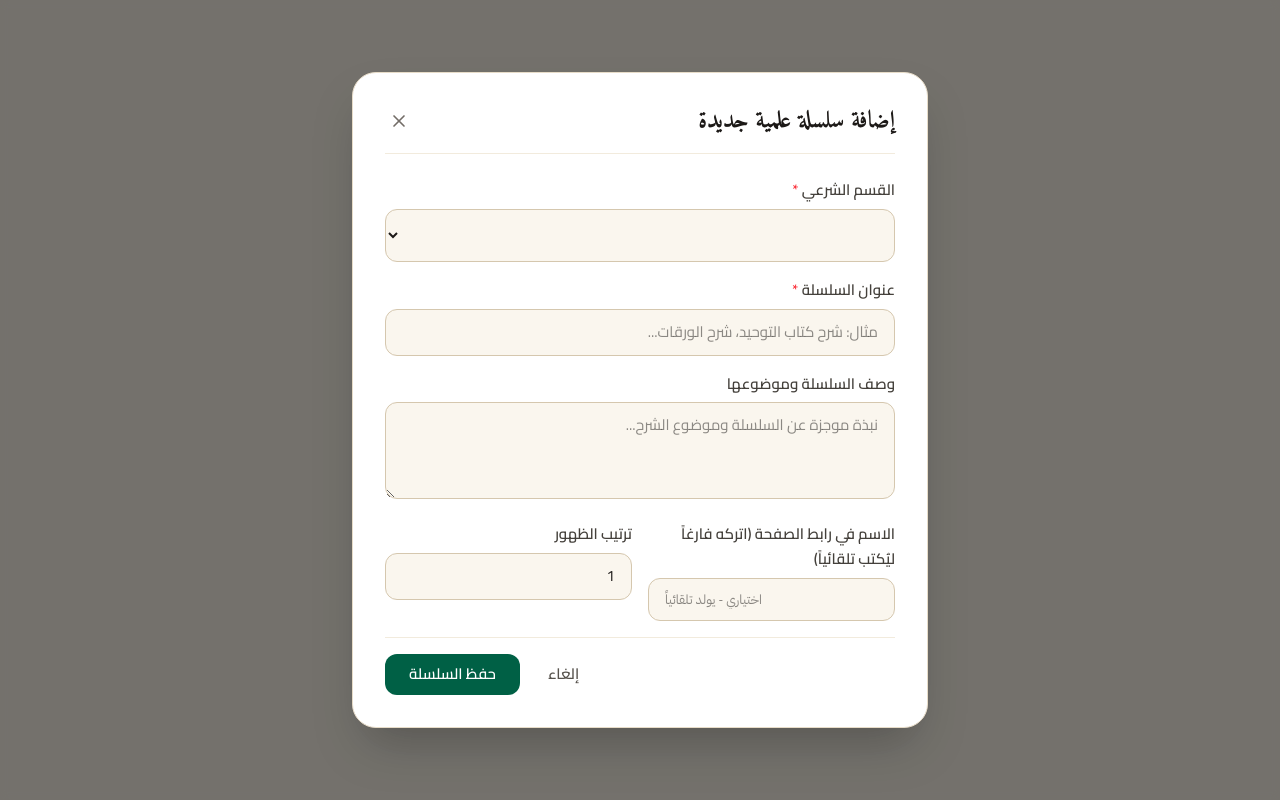
Test: SeriesModal › refuses a series without a category
The width and height of the screenshot is (1280, 800).
Type "س" into the field with placeholder "مثال: شرح كتاب التوحيد، شرح الورقات..." at coordinates (640, 332), box [385,309,895,356]
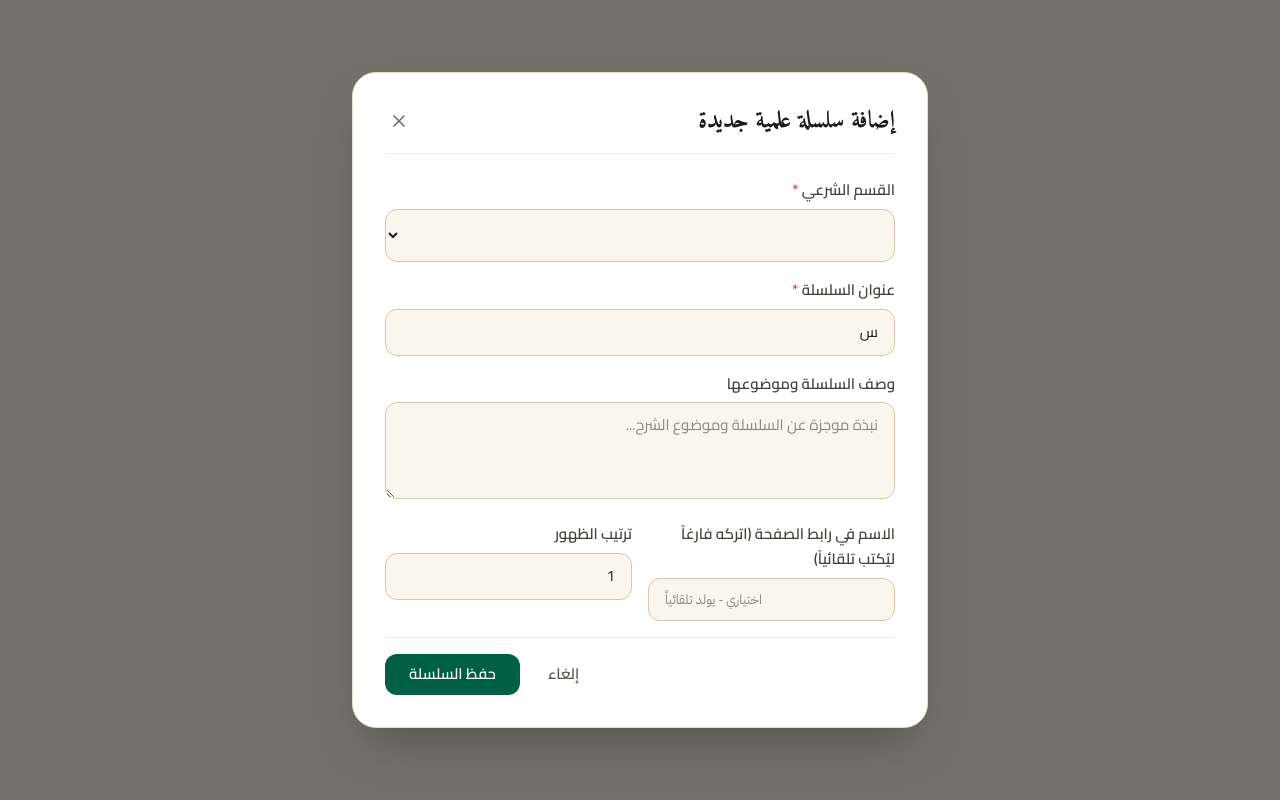
Submit the form, box [385,178,895,694]
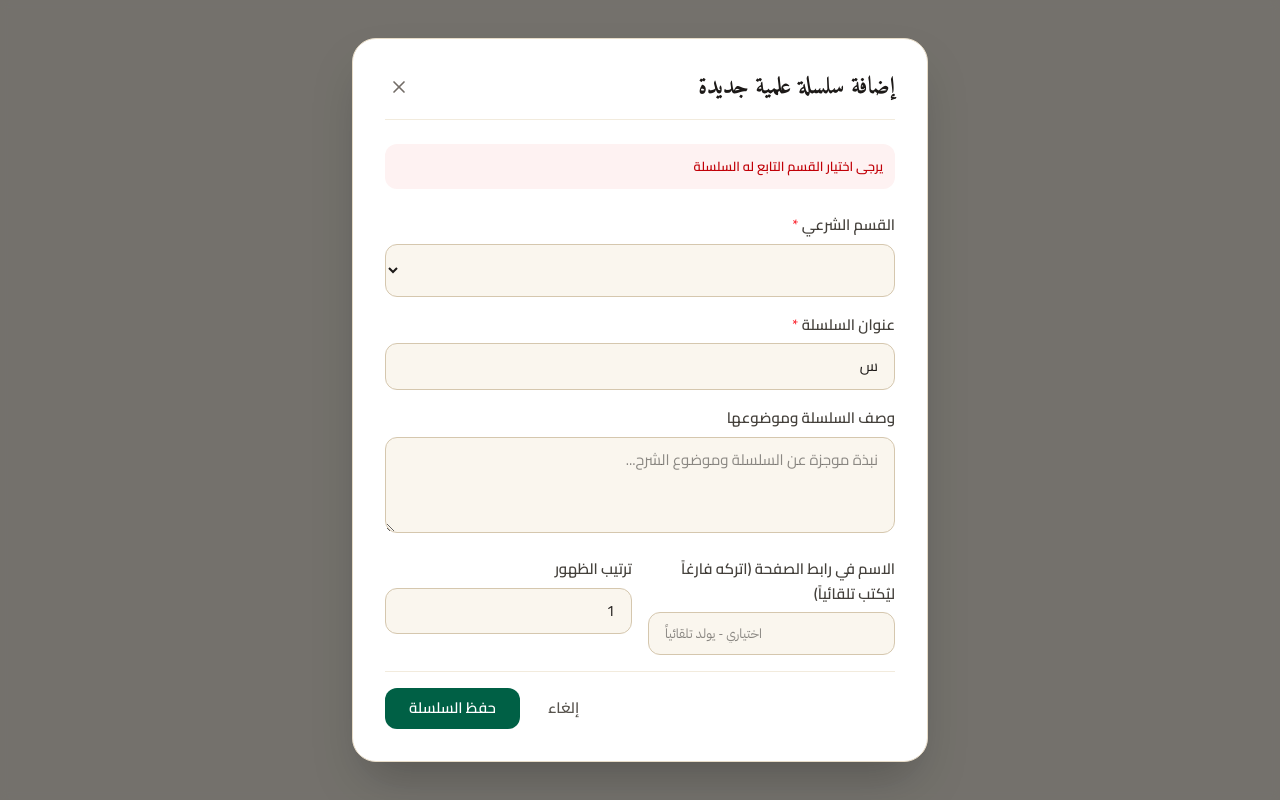
Check: the text "يرجى اختيار القسم التابع له السلسلة" is shown, box [385,144,895,189]
